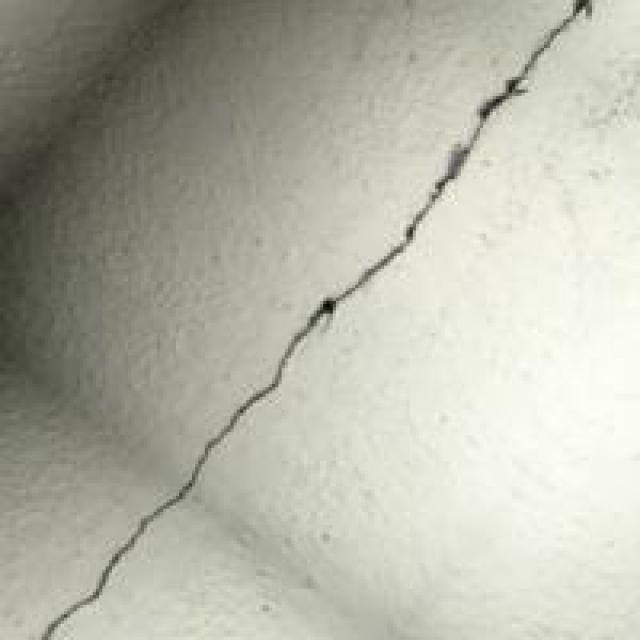Crack: (26, 0, 596, 637)
